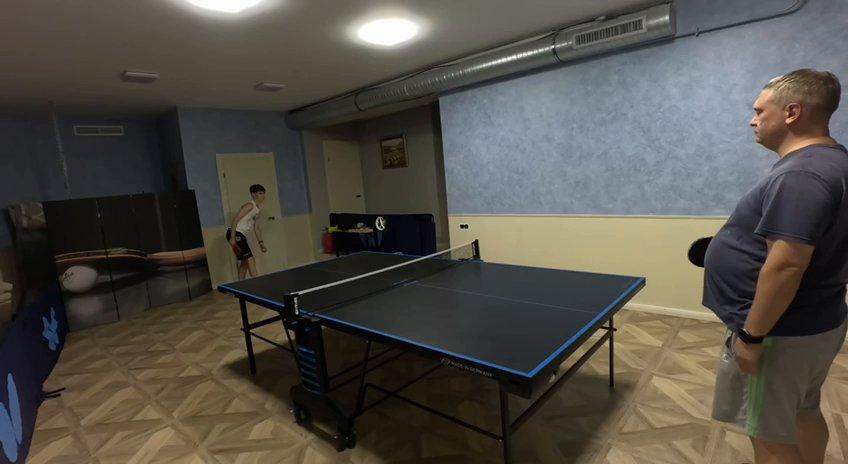Net: (280, 241, 481, 325)
Player1: (226, 185, 266, 278)
Player2: (690, 69, 847, 463)
Table: (220, 250, 640, 376)
